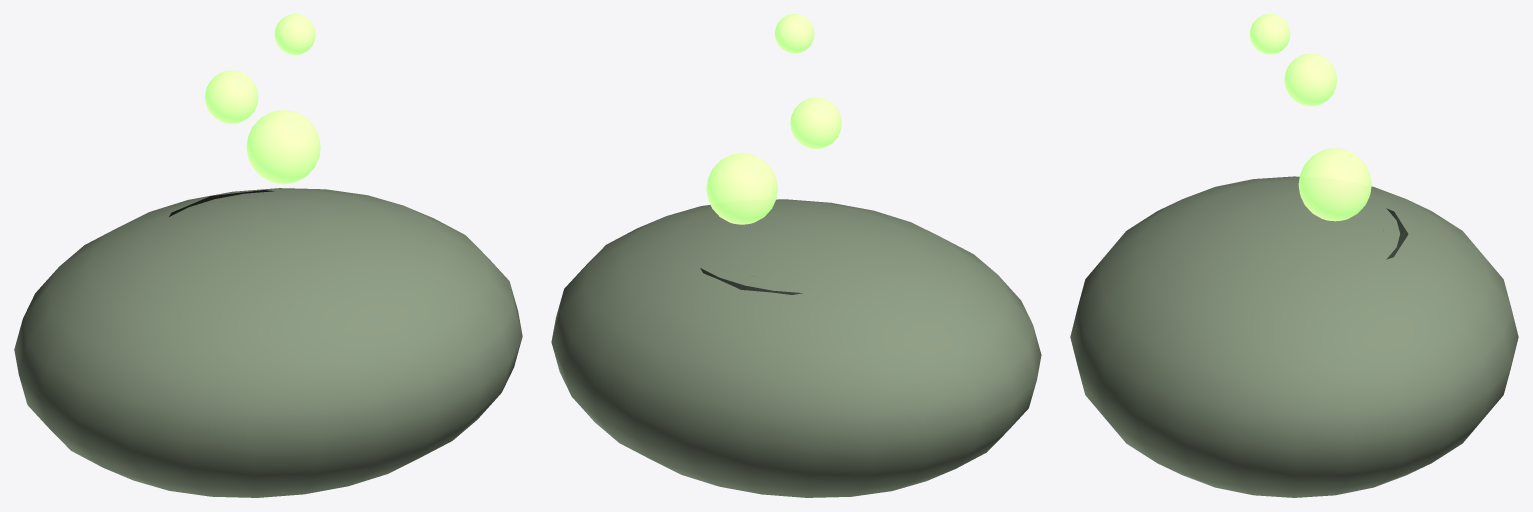
Rendered from e_geyser.glb.
The picture shows the model from 3 angles, left to right: view 1: azimuth 30°, elevation 25°; view 2: azimuth 150°, elevation 25°; view 3: azimuth 270°, elevation 25°; orthographic projection. The views are drawn at different scales.
Parts seen in each view (by area): view 1: eg_mound.003, eg_gas0.003, eg_gas1.003, eg_gas2.003; view 2: eg_mound.003, eg_gas0.003, eg_gas1.003, eg_gas2.003; view 3: eg_mound.003, eg_gas0.003, eg_gas1.003, eg_gas2.003.
Part boxes in pixels (box(x1,y1,x2,y2)): eg_mound.003: box(14, 188, 522, 497); eg_gas0.003: box(246, 110, 320, 184); eg_gas1.003: box(205, 70, 258, 123); eg_gas2.003: box(274, 14, 315, 54); eg_mound.003: box(551, 199, 1041, 497); eg_gas0.003: box(706, 153, 777, 224); eg_gas1.003: box(790, 97, 841, 148); eg_gas2.003: box(774, 14, 814, 53); eg_mound.003: box(1070, 176, 1518, 497); eg_gas0.003: box(1298, 148, 1371, 221); eg_gas1.003: box(1284, 53, 1336, 106); eg_gas2.003: box(1249, 14, 1290, 54).
Bounding box in the file's own units: 1.28 × 1.21 × 1.1.
